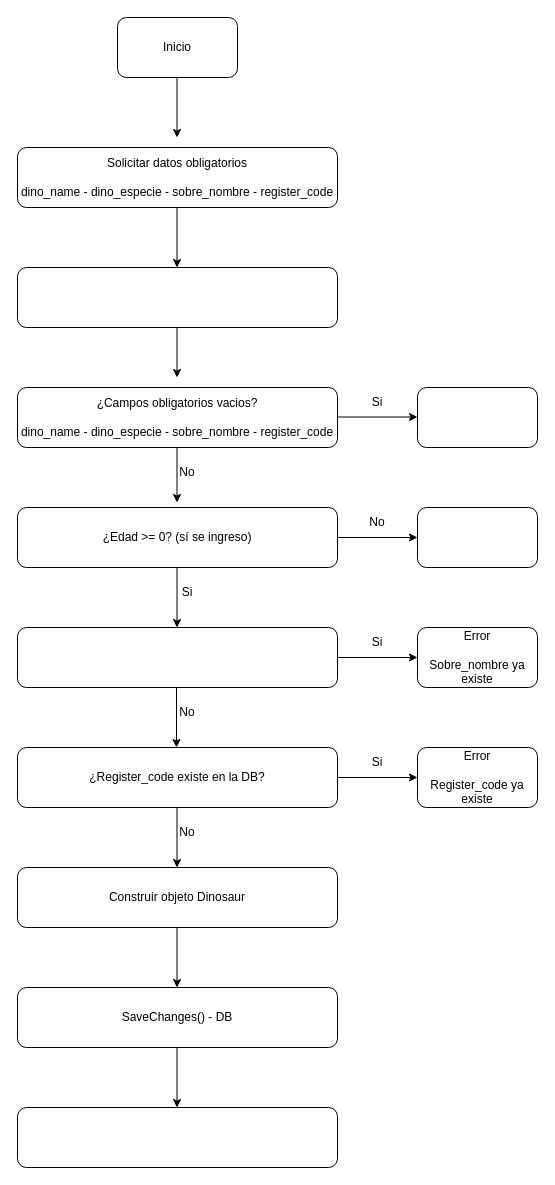
Some shapes in this 555 by 1185 pixel diagram are drawn without their labels. The centre of each missing label's shape, as x and y in pixels:
"Error Campo vacio" belongs at point (477, 417).
"Error Edad invalida" belongs at point (477, 537).
"Mostrar confirmacion" belongs at point (177, 1137).
"Solicitar datos opcionales Age - type - zone - sector - phone - address" belongs at point (177, 297).
"¿Sobre_nombre existe en la DB?" belongs at point (177, 657).
